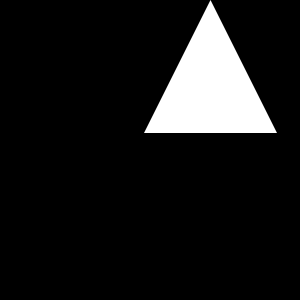triangle: (144, 0, 277, 133)
